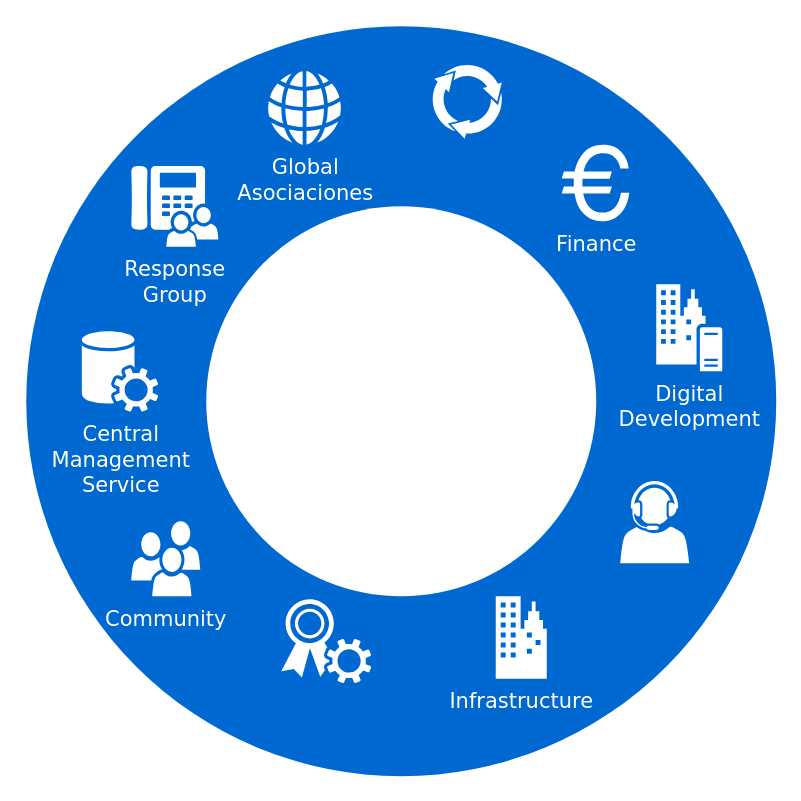
The diagram is 801 pixels wide and 801 high, and some of its shapes have lost their labels. Each missing label, with the centre of its shape:
"Customer Service" belongs at (x=654, y=521).
"Enterprise Business Model" belongs at (x=401, y=401).
"Environmental Awareness" belongs at (x=466, y=100).
"Technology Certificates" belongs at (x=325, y=640).
